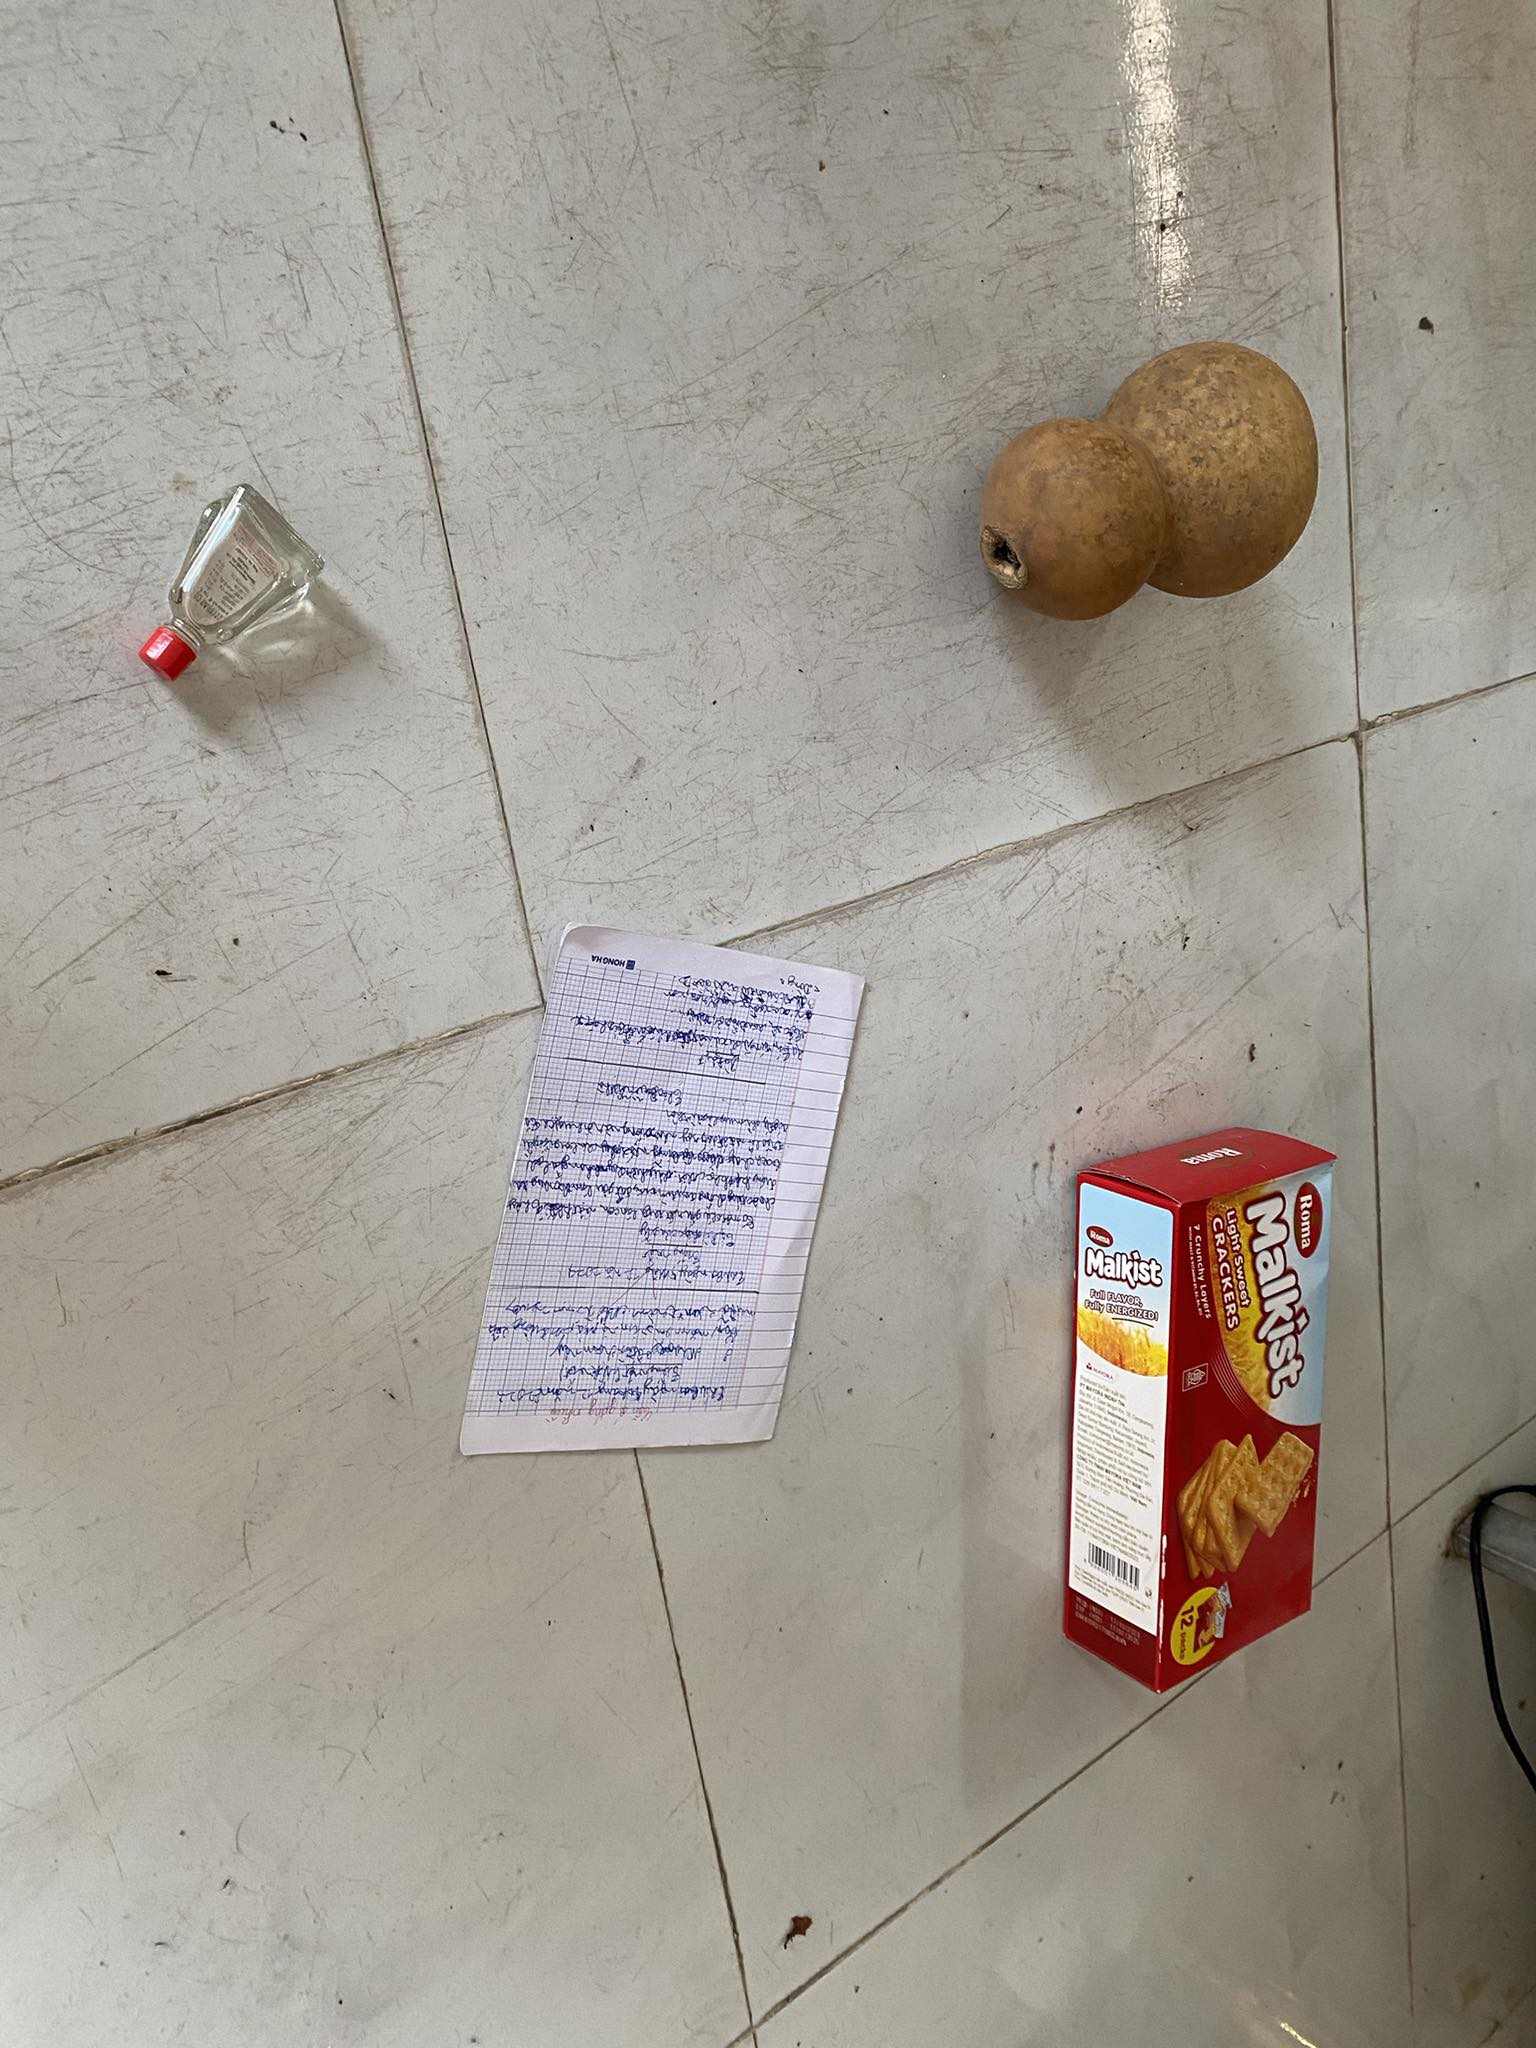cardboard: (1001, 1035, 1386, 1736)
glass: (72, 434, 392, 742)
paper: (445, 925, 883, 1473)
wood: (921, 335, 1378, 628)
